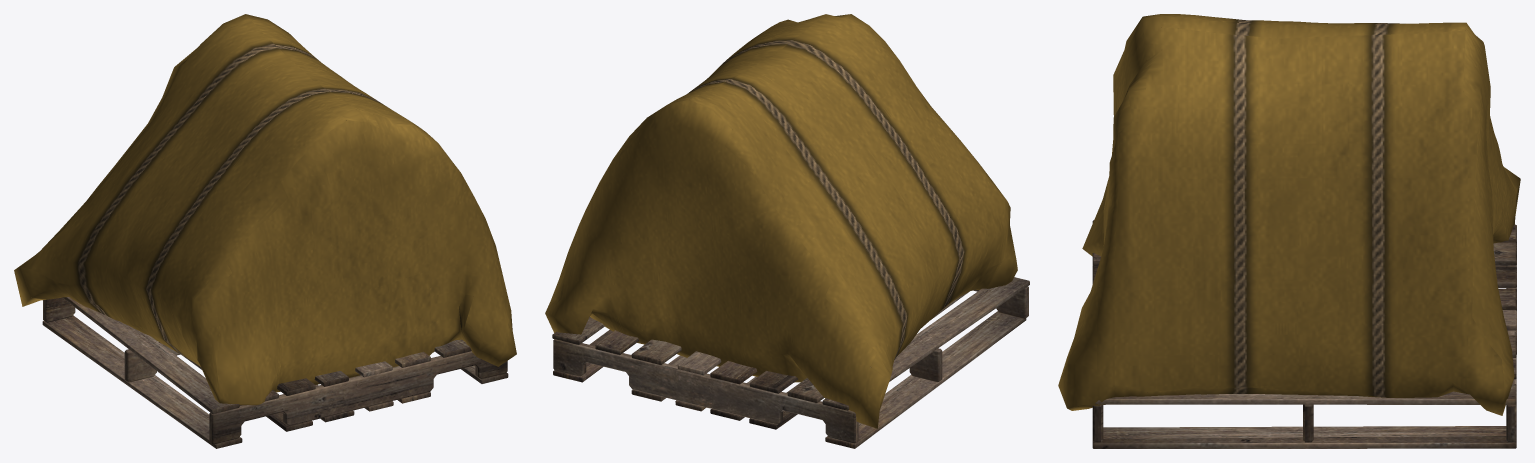
The model's file is FullPalette.fbx.
The picture shows the model from 3 angles, left to right: view 1: azimuth 30°, elevation 25°; view 2: azimuth 150°, elevation 25°; view 3: azimuth 270°, elevation 25°; orthographic projection. The views are drawn at different scales.
Visible parts, largest first — view 1: pallet; view 2: pallet; view 3: pallet.
Boxes of the visible parts, <box> form: pallet: <box>14,14,516,448</box>; pallet: <box>545,14,1029,448</box>; pallet: <box>1058,14,1520,448</box>.
Size of the model in its own units: 1.01 by 0.8041 by 0.9623.
